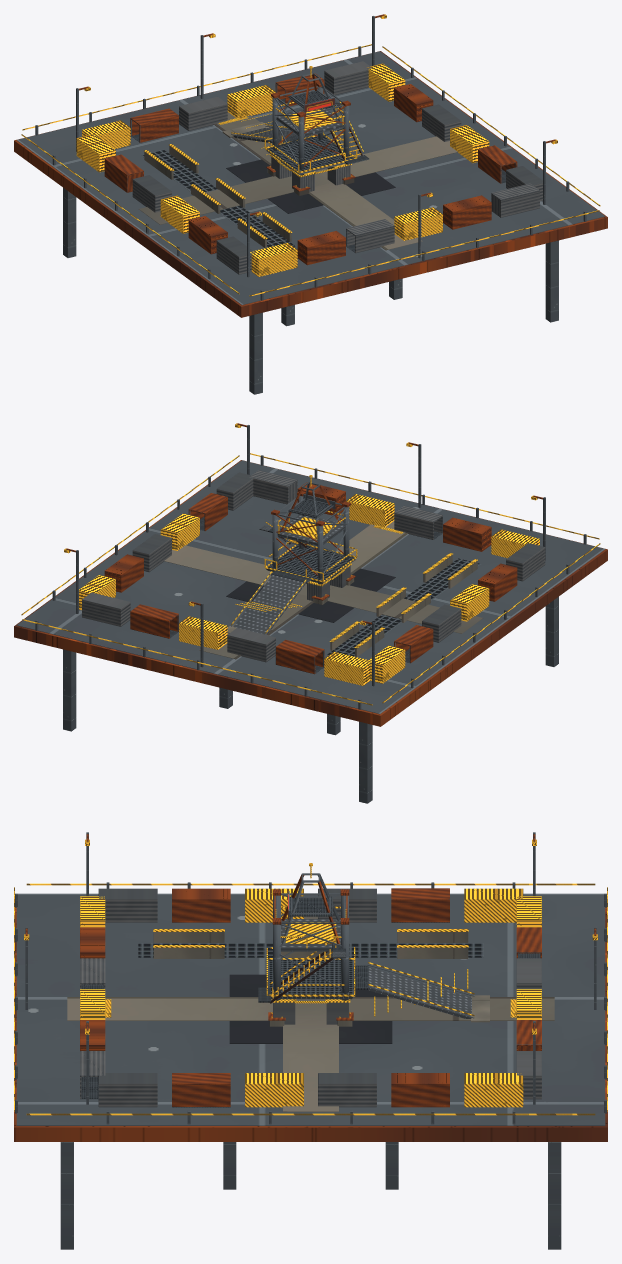
File: rustworks-central-tower.glb
3 renders of one model, top to bottom at view 1: azimuth 30°, elevation 25°; view 2: azimuth 150°, elevation 25°; view 3: azimuth 270°, elevation 25°, orthographic. The views are drawn at different scales.
Visible parts, largest first — view 1: RW_rig_deck_top, RW_rig_deck_slab, RW_service_lane_x, RW_service_lane_z, RW_hardstand, RW_service_trench_floor, RW_lower_deck, RW_shipping_container_south_4, RW_shipping_container_south_1, RW_shipping_container_north_2, RW_shipping_container_south_0, RW_shipping_container_south_3 (+22 smaller); view 2: RW_rig_deck_top, RW_rig_deck_slab, RW_service_lane_x, RW_service_lane_z, RW_lower_ramp_shell, RW_hardstand, RW_service_trench_floor, RW_lower_deck, RW_shipping_container_north_5, RW_shipping_container_south_1, RW_shipping_container_north_2, RW_shipping_container_north_0 (+24 smaller); view 3: RW_rig_deck_top, RW_rig_deck_slab, RW_service_lane_z, RW_service_lane_x, RW_hardstand, RW_lower_ramp_shell, RW_lower_deck, RW_service_trench_floor, RW_shipping_container_east_0, RW_shipping_container_east_5, RW_shipping_container_east_1, RW_shipping_container_west_4 (+35 smaller).
Part boxes in pixels (bbox=[...]): RW_rig_deck_top: bbox=[17, 51, 605, 304]; RW_rig_deck_slab: bbox=[14, 51, 607, 317]; RW_service_lane_x: bbox=[139, 136, 457, 224]; RW_service_lane_z: bbox=[214, 112, 422, 250]; RW_hardstand: bbox=[226, 159, 395, 213]; RW_service_trench_floor: bbox=[141, 149, 295, 247]; RW_lower_deck: bbox=[266, 136, 353, 174]; RW_shipping_container_south_4: bbox=[443, 195, 491, 229]; RW_shipping_container_south_1: bbox=[297, 231, 345, 265]; RW_shipping_container_north_2: bbox=[179, 96, 227, 130]; RW_shipping_container_south_0: bbox=[250, 242, 297, 276]; RW_shipping_container_south_3: bbox=[394, 207, 442, 240]; RW_rig_deck_top: bbox=[16, 460, 604, 713]; RW_rig_deck_slab: bbox=[14, 460, 607, 726]; RW_service_lane_x: bbox=[164, 545, 482, 633]; RW_service_lane_z: bbox=[199, 521, 407, 659]; RW_lower_ramp_shell: bbox=[233, 575, 305, 634]; RW_hardstand: bbox=[226, 568, 395, 622]; RW_service_trench_floor: bbox=[326, 558, 480, 656]; RW_lower_deck: bbox=[266, 545, 355, 583]; RW_shipping_container_north_5: bbox=[82, 592, 130, 626]; RW_shipping_container_south_1: bbox=[443, 517, 491, 551]; RW_shipping_container_north_2: bbox=[227, 628, 275, 662]; RW_shipping_container_north_0: bbox=[324, 651, 371, 685]; RW_rig_deck_top: bbox=[16, 893, 605, 1125]; RW_rig_deck_slab: bbox=[14, 907, 607, 1141]; RW_service_lane_z: bbox=[67, 997, 554, 1020]; RW_service_lane_x: bbox=[283, 916, 338, 1111]; RW_hardstand: bbox=[229, 974, 392, 1043]; RW_lower_ramp_shell: bbox=[368, 967, 471, 1018]; RW_lower_deck: bbox=[268, 959, 353, 998]; RW_service_trench_floor: bbox=[138, 943, 483, 957]; RW_shipping_container_east_0: bbox=[464, 1073, 523, 1107]; RW_shipping_container_east_5: bbox=[98, 1073, 157, 1107]; RW_shipping_container_east_1: bbox=[391, 1073, 449, 1107]; RW_shipping_container_west_4: bbox=[172, 888, 230, 922].
Bounding box in the file's own units: 54.5 × 31.37 × 58.5.
Materials: 10 (10 with a texture image).
